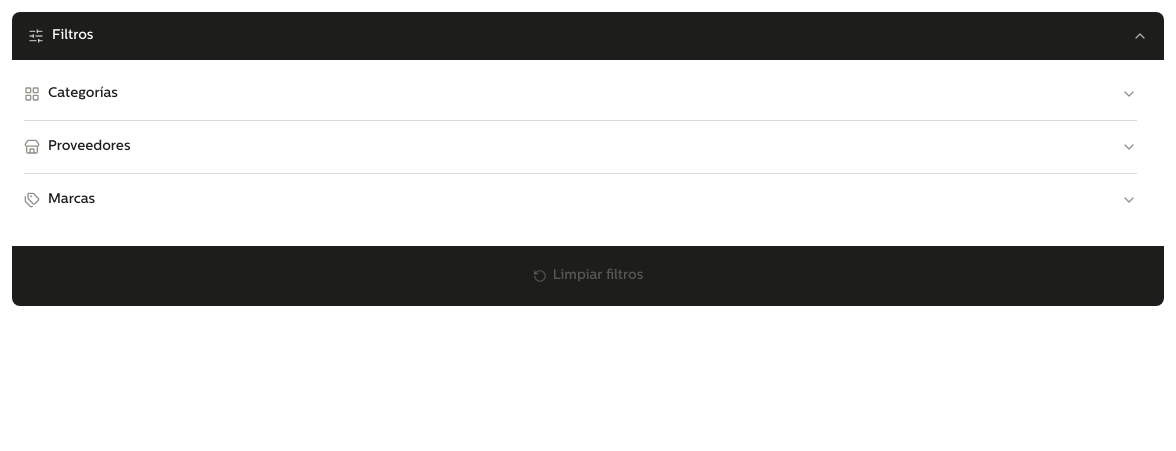
Test case: categorías y subcategorías › muestra las categorías con su conteo y no muestra subcategorías hasta elegir una
What coordinates should you click on to do the following:
click the button "Categorías"
I would click on:
 (83, 94)
Its box is [24,76,1137,112].
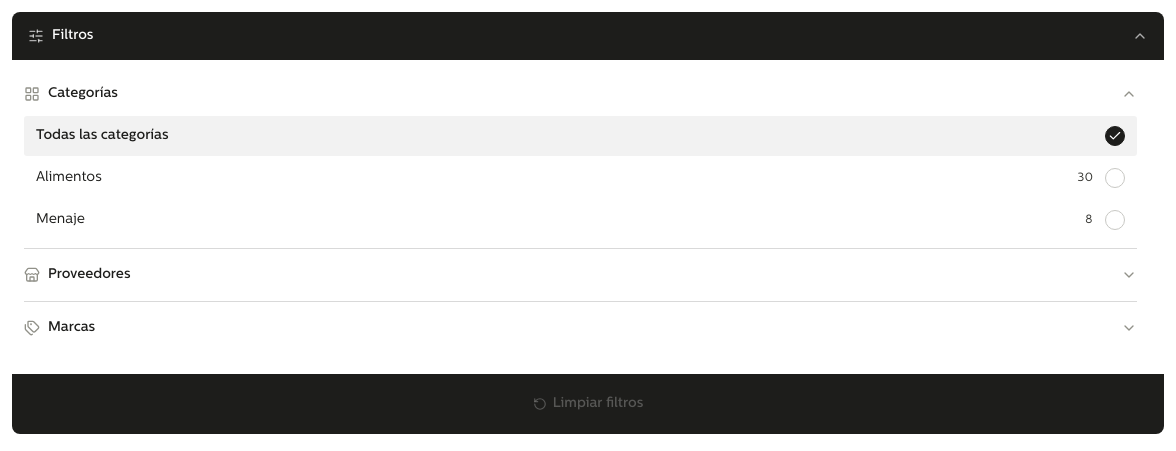
Expected: the button "Alimentos 30" is shown, [24,158,1137,198]
Expected: the button "Menaje 8" is shown, [24,200,1137,240]
